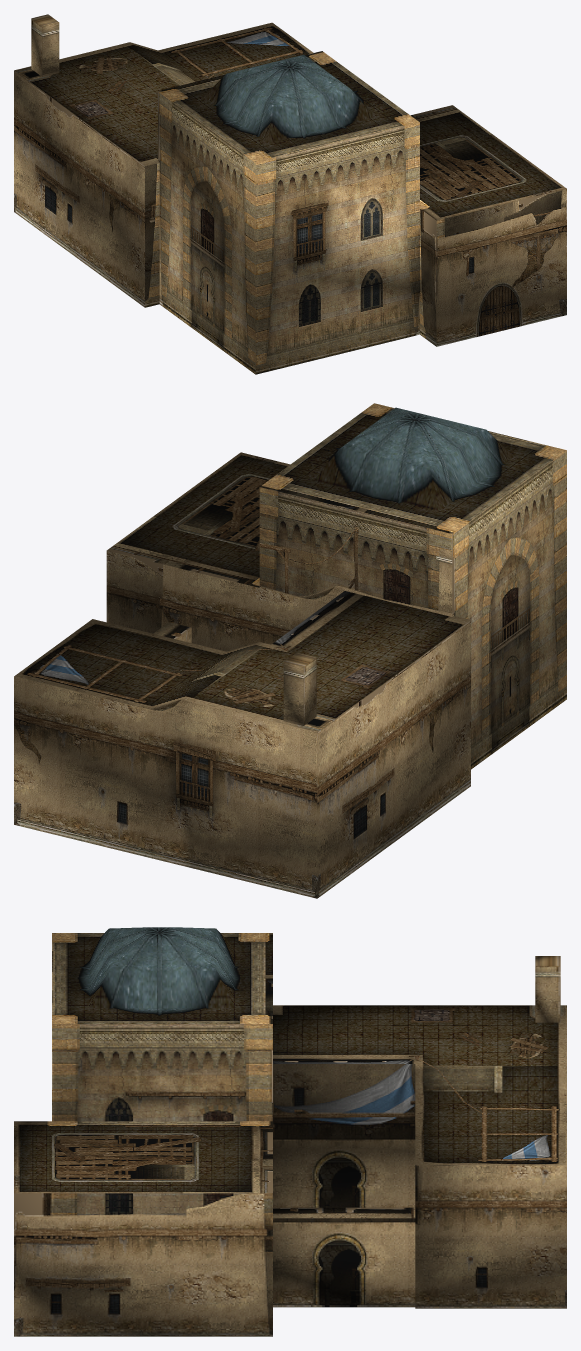
The model's file is oriental_houses_01_LOD4.obj.
3 views of the same model, one above another, from view 1: azimuth 30°, elevation 25°; view 2: azimuth 150°, elevation 25°; view 3: azimuth 270°, elevation 25° (orthographic). The views are drawn at different scales.
Parts seen in each view (by area): view 1: oriental_houses_01_LOD4.obj; view 2: oriental_houses_01_LOD4.obj; view 3: oriental_houses_01_LOD4.obj.
Boxes of the visible parts, left/top/right/bottom form: oriental_houses_01_LOD4.obj: left=14, top=14, right=566, bottom=374; oriental_houses_01_LOD4.obj: left=14, top=403, right=566, bottom=898; oriental_houses_01_LOD4.obj: left=14, top=927, right=566, bottom=1336.
Bounding box in the file's own units: 640 × 500 × 875.
Materials: 1 (1 with a texture image).
